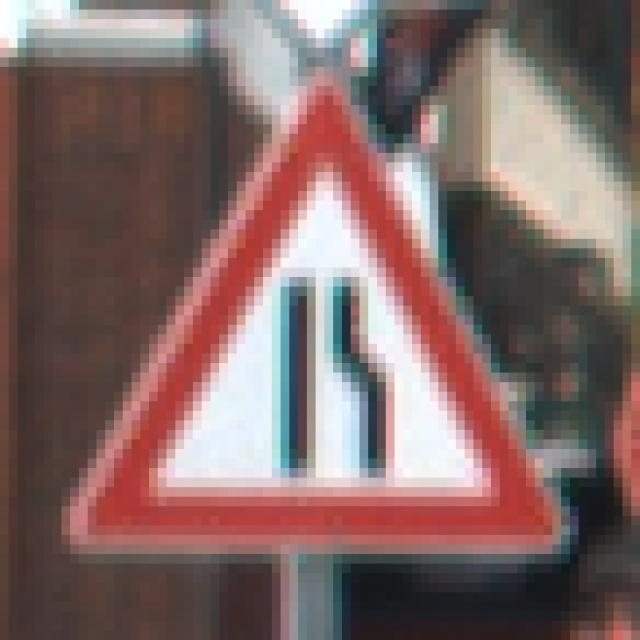narrow road ahead: (68, 72, 569, 561)
